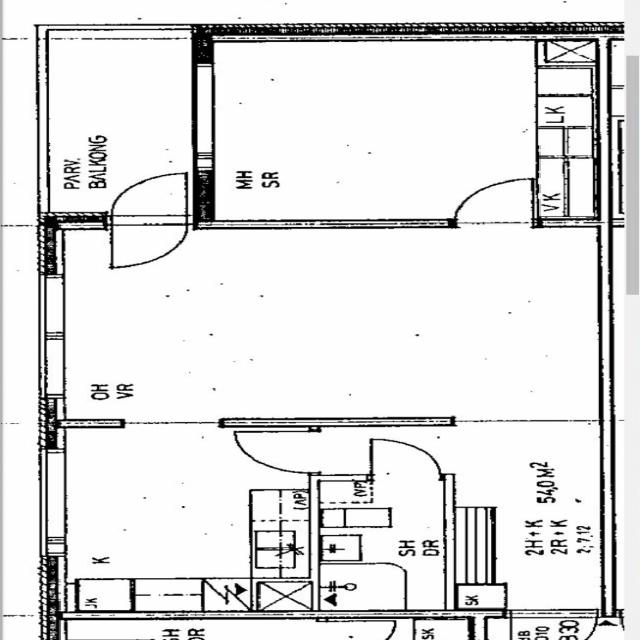door: (112, 212, 184, 268), (112, 173, 184, 229), (456, 179, 532, 230), (235, 431, 321, 472), (373, 440, 437, 480)
